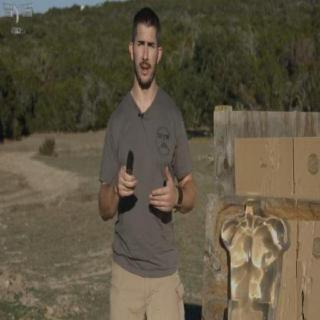knife: (120, 145, 137, 199)
